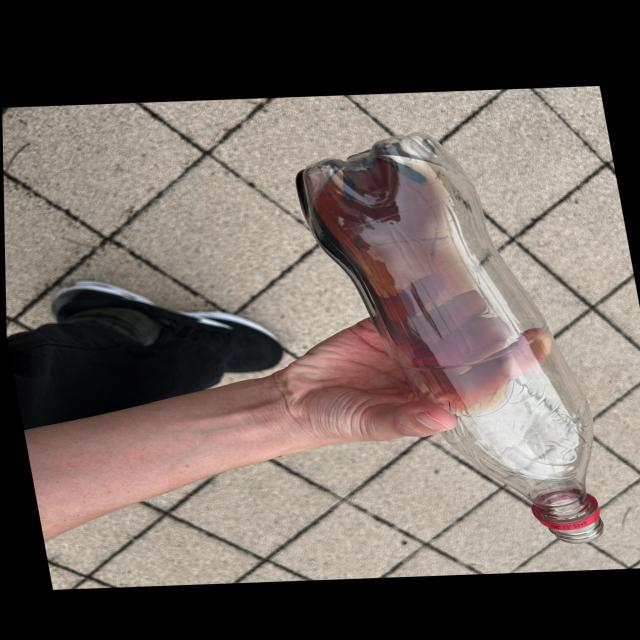medium: (297, 134, 602, 543)
